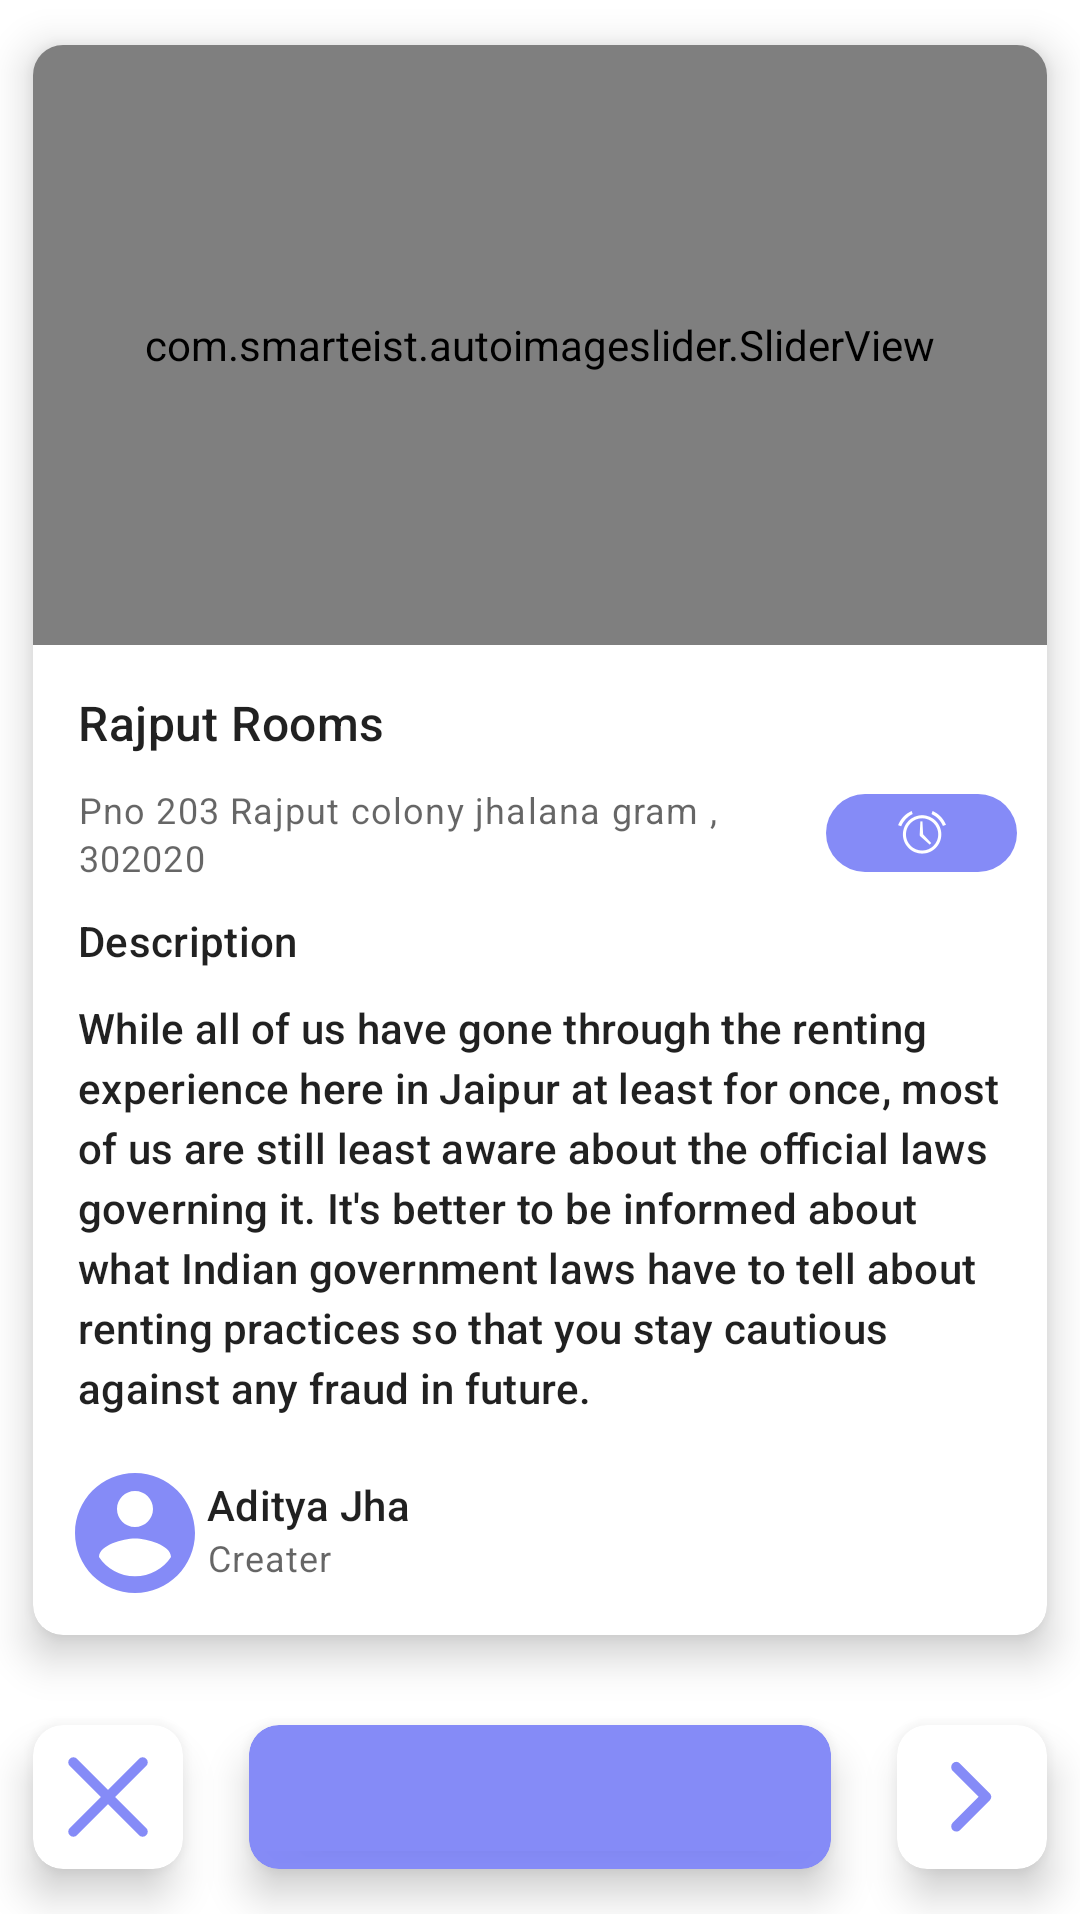

Locate icon controls on the screen. Image size 1080 × 1920, boxes as (x1, y1, x2, y2).
cancle: (68, 1757, 148, 1837)
lock idle alarm: (826, 794, 1017, 872)
next: (951, 1762, 992, 1832)
person: (75, 1473, 195, 1593)
